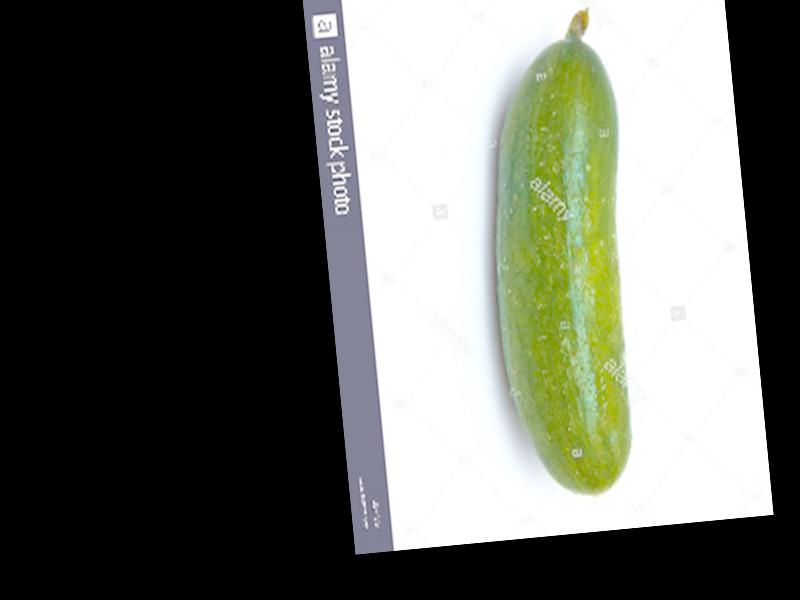Cucumber: (471, 5, 653, 504)
